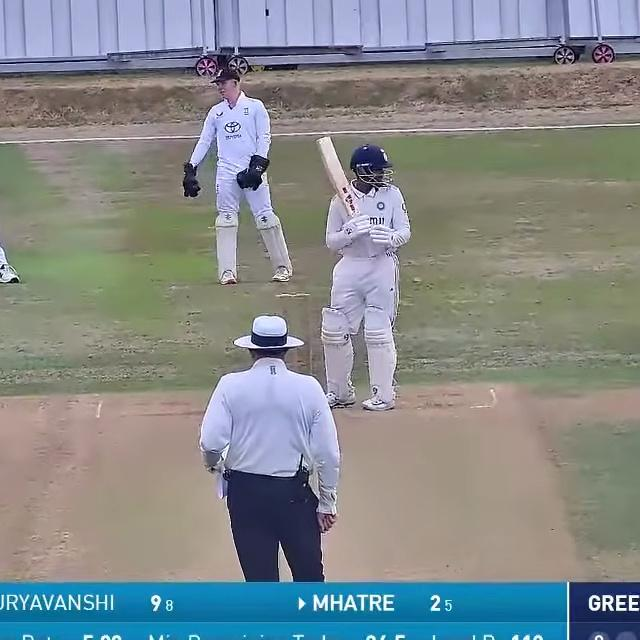umpire: (187, 304, 351, 583)
